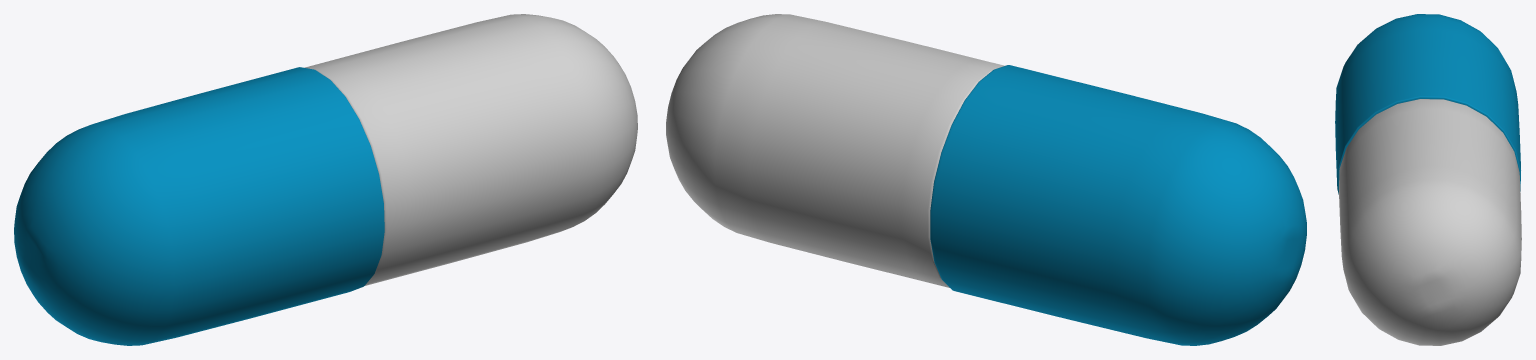
3 renders of one model, left to right at view 1: azimuth 30°, elevation 25°; view 2: azimuth 150°, elevation 25°; view 3: azimuth 270°, elevation 25°, orthographic. The views are drawn at different scales.
Visible parts, largest first — view 1: pills_04_f; view 2: pills_04_f; view 3: pills_04_f.
Boxes of the visible parts, left/top/right/bottom form: pills_04_f: left=14, top=14, right=637, bottom=345; pills_04_f: left=666, top=14, right=1306, bottom=345; pills_04_f: left=1335, top=14, right=1521, bottom=345.
Bounding box in the file's own units: 1.75 × 0.5926 × 0.5952.
Materials: 1 (1 with a texture image).
